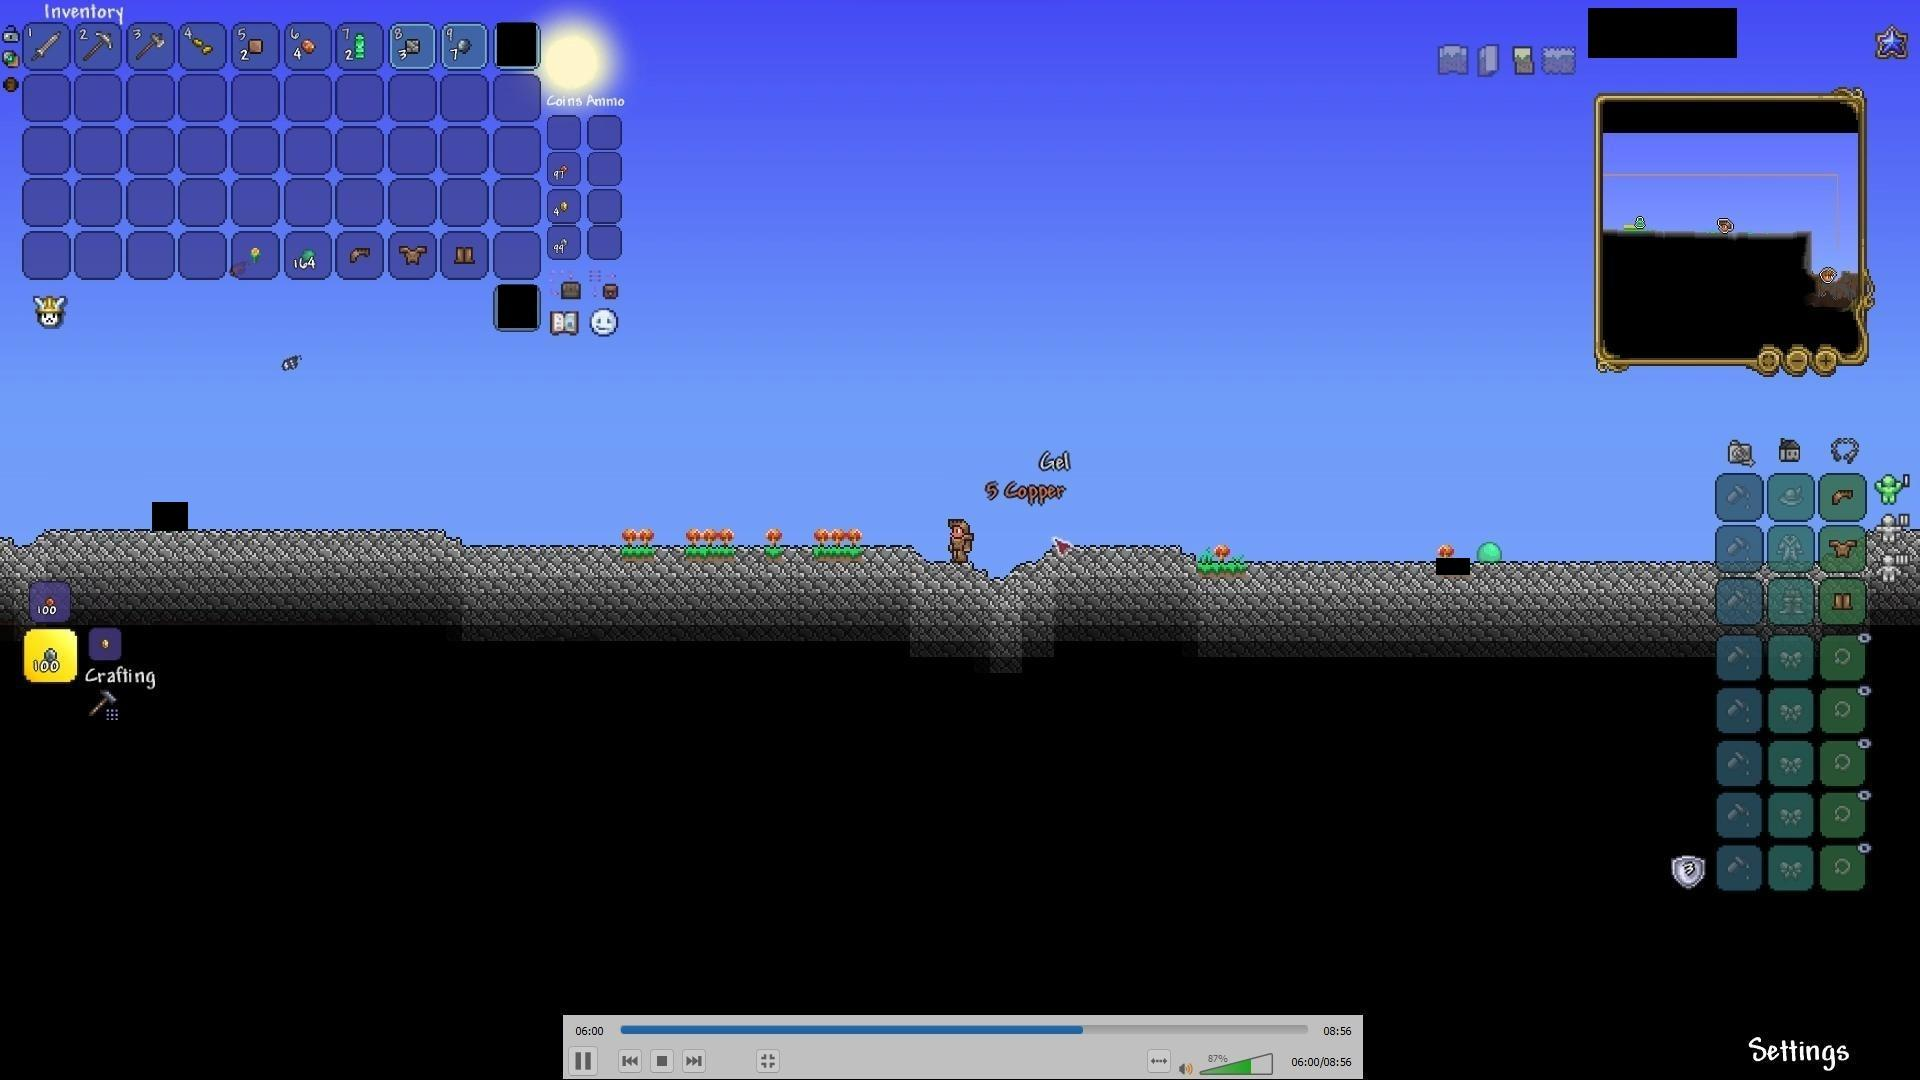breastplate: (396, 243, 429, 262), (1830, 537, 1859, 558)
dirt: (686, 546, 732, 566), (1197, 559, 1244, 578), (814, 542, 860, 560), (620, 546, 651, 563)
helmet: (345, 243, 375, 268), (1829, 483, 1857, 508)
legs: (1832, 587, 1857, 615), (452, 243, 477, 266)
slime: (1474, 537, 1505, 562)
